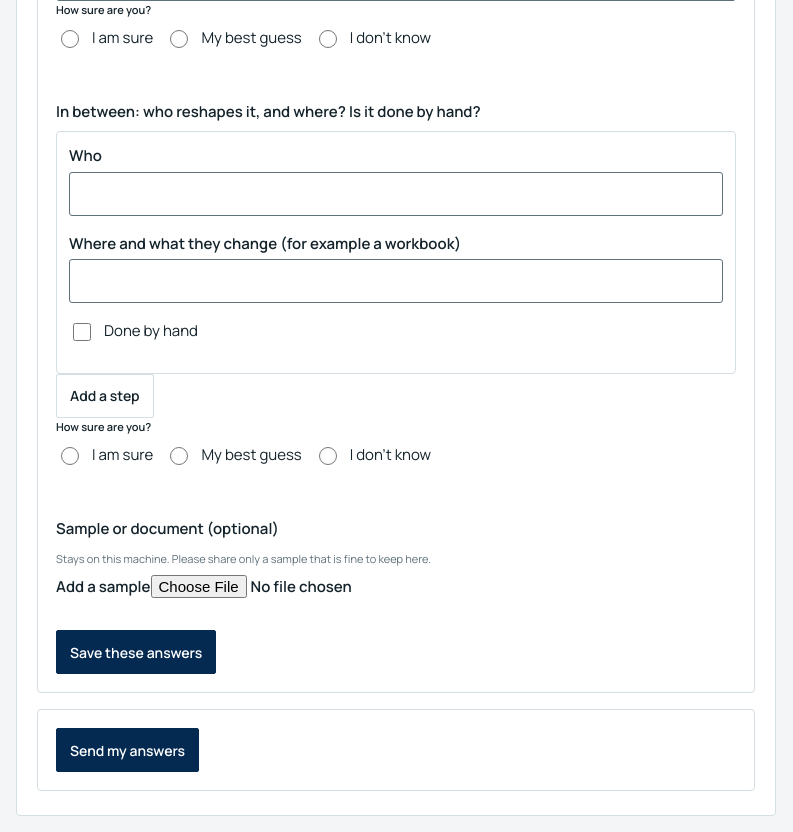
the questionnaire › sending the answers says thank you
The width and height of the screenshot is (793, 832).
(page scrolled)
What coordinates should you click on to do the following:
click the button "Send my answers"
I would click on:
 (128, 750)
Its box is [56,728,199,772].
(page scrolled)
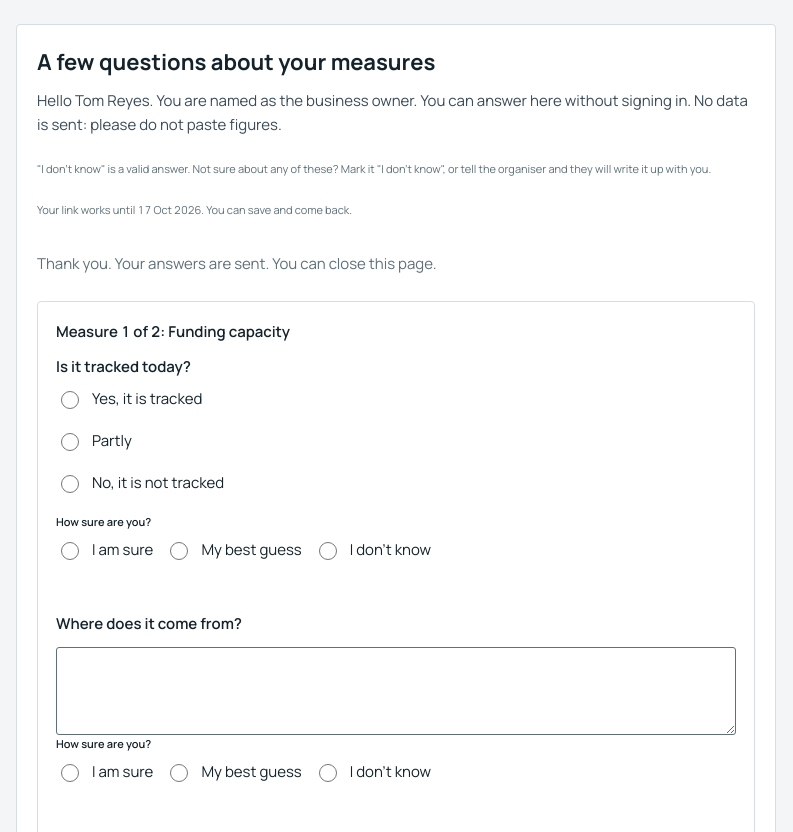
Expected: the text "Thank you. Your answers are sent. You can close this page." is shown, [37,253,436,274]
